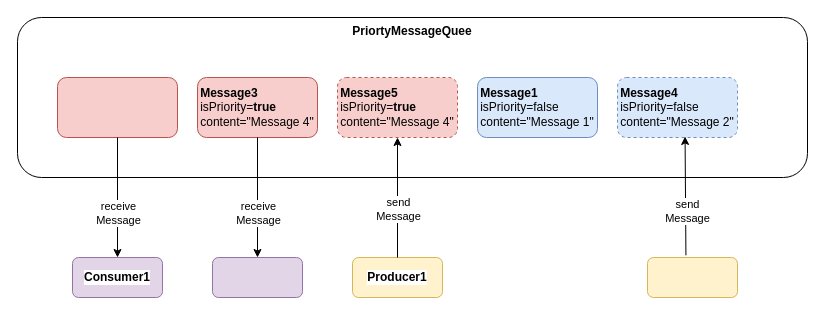
Some shapes in this 825 by 315 pixel diagram are drawn without their labels. Here are the shapes that lost their labels. From the top down, the centre of each, then its label:
pixel 117 107: Message2 isPriority= true content="Message 3"
pixel 257 277: Consumer2
pixel 692 277: Producer2
